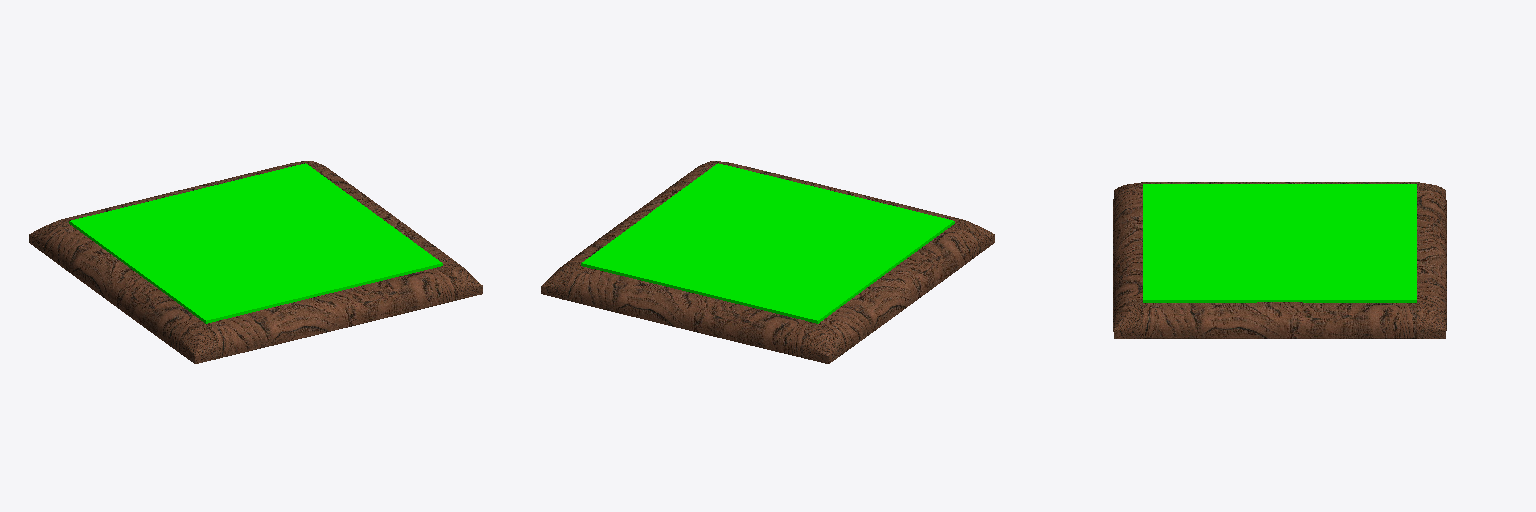
3 views of the same model, side by side, from view 1: azimuth 30°, elevation 25°; view 2: azimuth 150°, elevation 25°; view 3: azimuth 270°, elevation 25° (orthographic).
Visible parts, largest first — view 1: s.0073, p.0109, s.0112; view 2: s.0073, p.0109, s.0112; view 3: s.0073, p.0109, s.0112.
Part boxes in pixels (x1,y1,x2,y2): s.0073: (69, 163, 442, 323); p.0109: (43, 162, 459, 357); s.0112: (29, 161, 482, 363); s.0073: (581, 163, 954, 323); p.0109: (563, 162, 980, 357); s.0112: (541, 161, 994, 363); s.0073: (1143, 184, 1416, 302); p.0109: (1113, 182, 1446, 338); s.0112: (1113, 182, 1446, 338).
Bounding box in the file's own units: 0.9519 × 0.088 × 0.9519.
Materials: 2 (1 with a texture image).